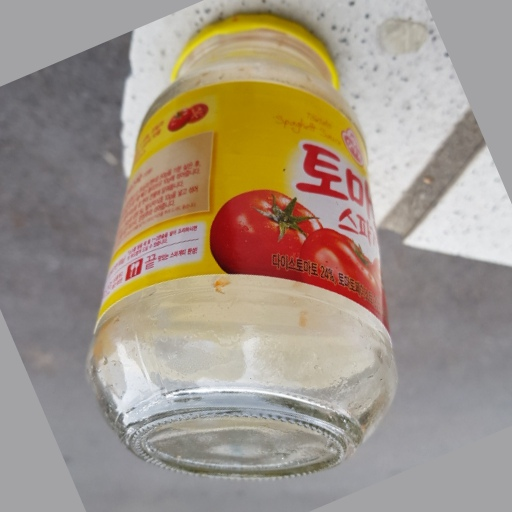Glass_5: (91, 13, 398, 475)
